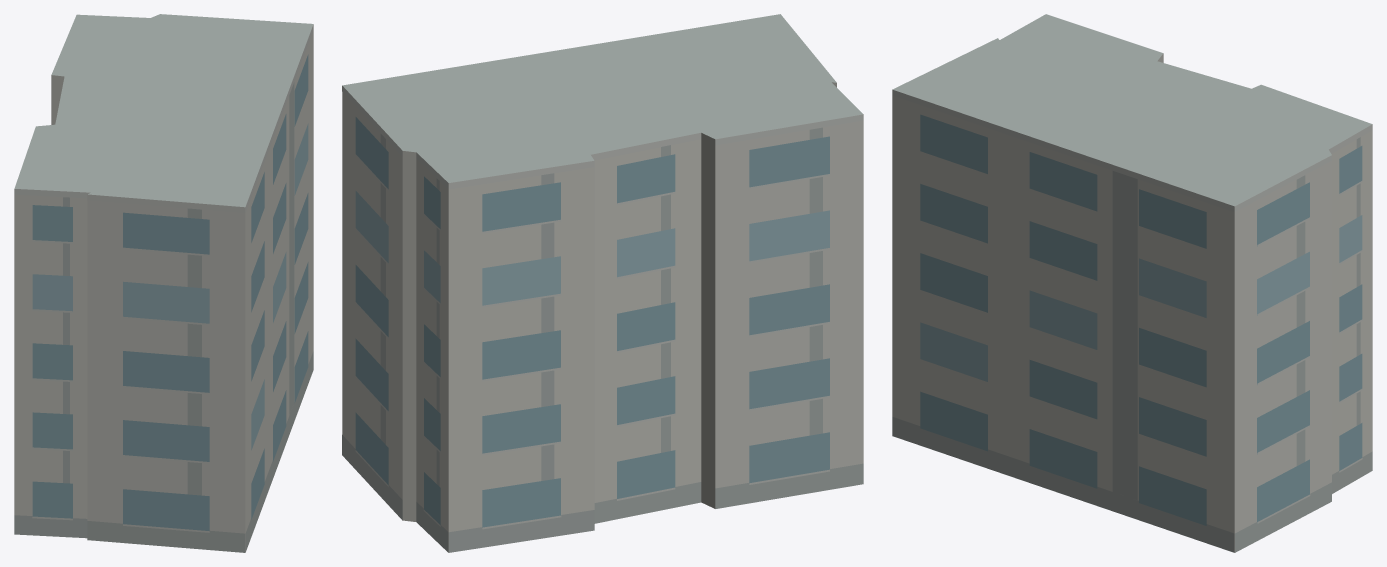
Rendered from survey-upis-32890388.glb.
The picture shows the model from 3 angles, left to right: view 1: azimuth 30°, elevation 25°; view 2: azimuth 150°, elevation 25°; view 3: azimuth 270°, elevation 25°; orthographic projection. The views are drawn at different scales.
Visible parts, largest first — view 1: survey-upis-32890388.tmp; view 2: survey-upis-32890388.tmp; view 3: survey-upis-32890388.tmp.
Part boxes in pixels (left/top/right/bottom): survey-upis-32890388.tmp: left=14, top=14, right=313, bottom=552; survey-upis-32890388.tmp: left=342, top=14, right=863, bottom=552; survey-upis-32890388.tmp: left=892, top=14, right=1372, bottom=552.
Size of the model in its own units: 17.04 by 14.3 by 17.97.
